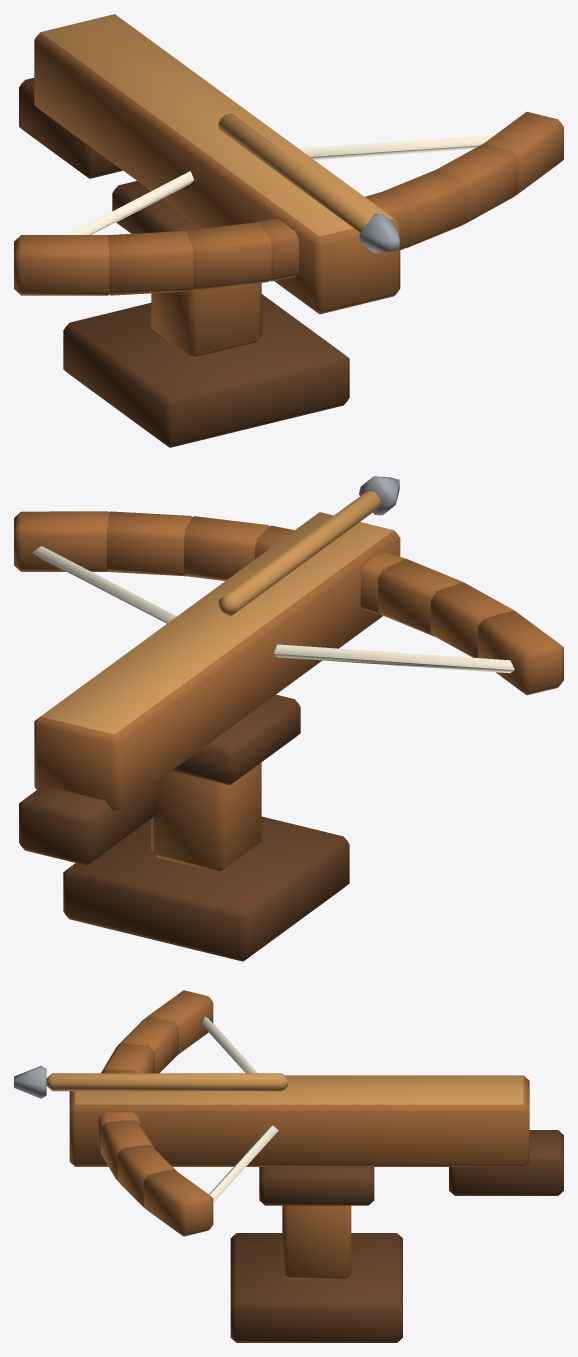
Rendered from G_MedCrossbow_1.fbx.
The picture shows the model from 3 angles, top to bottom: view 1: azimuth 30°, elevation 25°; view 2: azimuth 150°, elevation 25°; view 3: azimuth 270°, elevation 25°; orthographic projection. The views are drawn at different scales.
Parts seen in each view (by area): view 1: M_Crossbow_1; view 2: M_Crossbow_1; view 3: M_Crossbow_1.
Boxes of the visible parts, x1=… form: M_Crossbow_1: x1=14, y1=14, x2=563, y2=447; M_Crossbow_1: x1=14, y1=476, x2=563, y2=961; M_Crossbow_1: x1=14, y1=990, x2=563, y2=1342.
Bounding box in the file's own units: 0.8825 × 0.4634 × 0.9568.
1 material, 1 textured.
